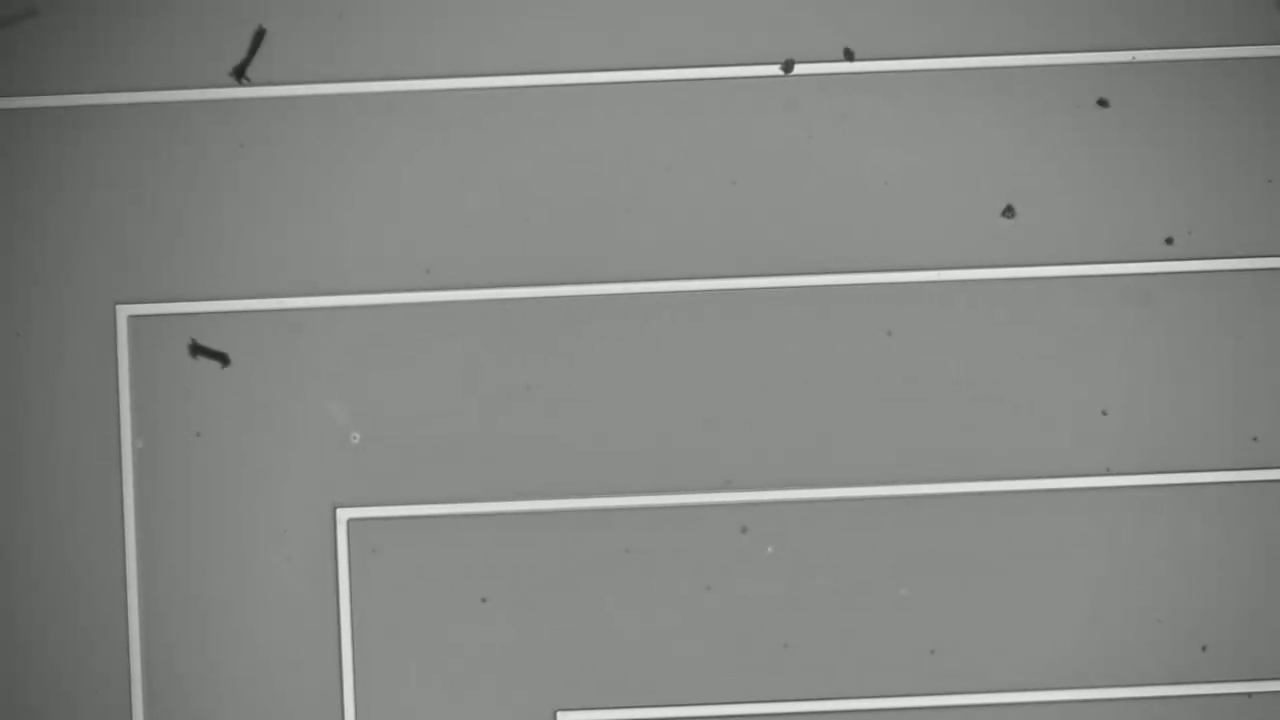stains_enbedded: (774, 49, 802, 85)
